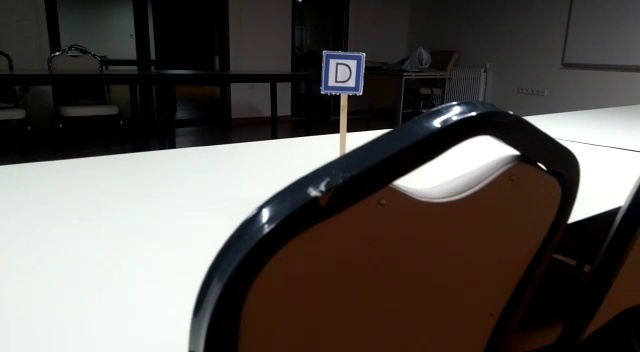durak: (321, 53, 363, 94)
